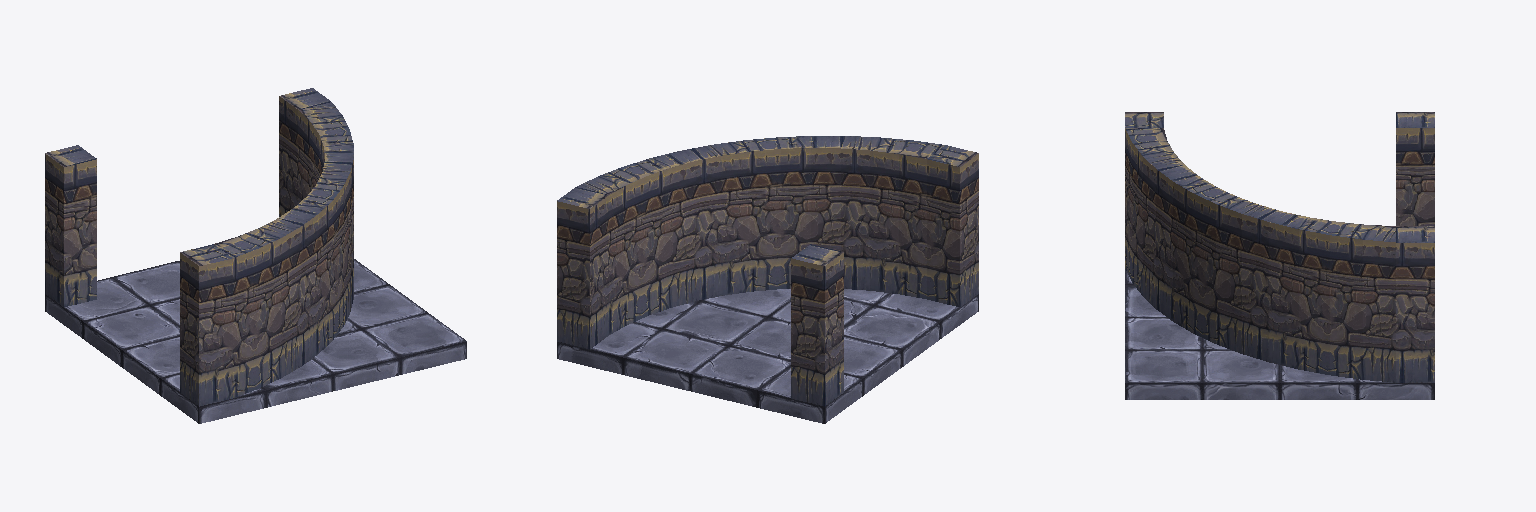
The picture shows the model from 3 angles: view 1: azimuth 30°, elevation 25°; view 2: azimuth 150°, elevation 25°; view 3: azimuth 270°, elevation 25°; orthographic projection.
Visible parts, largest first — view 1: Mesh1 Group1 Model, Mesh2 Group2 Model, Mesh3 Group3 Model; view 2: Mesh1 Group1 Model, Mesh2 Group2 Model, Mesh3 Group3 Model; view 3: Mesh1 Group1 Model, Mesh2 Group2 Model, Mesh3 Group3 Model.
Boxes of the visible parts, x1,y1,x2,y2 form: Mesh1 Group1 Model: [180, 88, 353, 406]; Mesh2 Group2 Model: [45, 259, 466, 423]; Mesh3 Group3 Model: [45, 145, 96, 306]; Mesh1 Group1 Model: [557, 136, 978, 348]; Mesh2 Group2 Model: [557, 289, 978, 423]; Mesh3 Group3 Model: [791, 244, 843, 406]; Mesh1 Group1 Model: [1125, 112, 1434, 382]; Mesh2 Group2 Model: [1125, 269, 1434, 399]; Mesh3 Group3 Model: [1396, 112, 1434, 225].
Size of the model in its own units: 157 by 88.58 by 157.
3 materials, 2 textured.